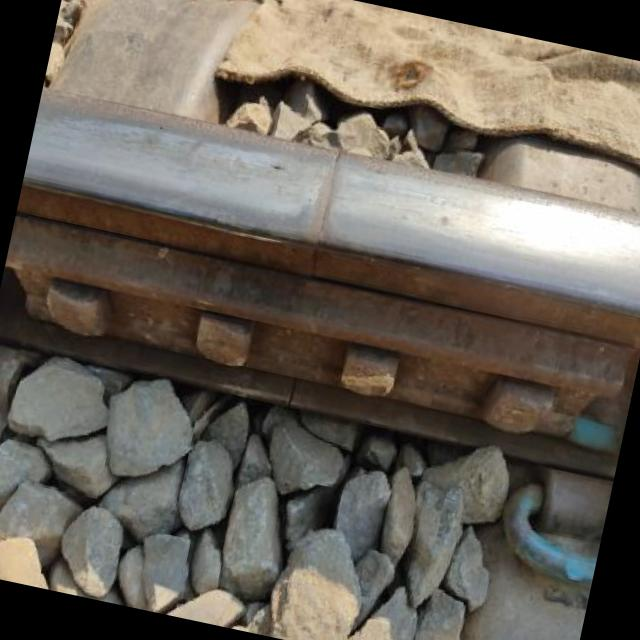defective: (130, 56, 496, 403)
